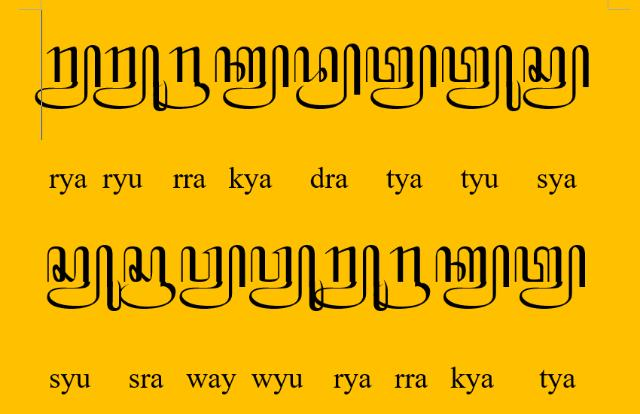dr: (294, 43, 361, 110)
ky: (215, 44, 291, 110), (436, 244, 510, 310)
rr: (154, 46, 210, 110), (374, 246, 430, 310)
ry: (314, 246, 388, 312), (34, 44, 102, 110)
ryu: (92, 44, 168, 111)
sr: (120, 246, 176, 310)
sy: (523, 44, 589, 110)
syu: (46, 245, 122, 313)
ty: (365, 44, 437, 110), (514, 245, 586, 311)
tyu: (442, 44, 522, 111)
wy: (180, 244, 247, 310)
wyu: (250, 244, 324, 312)
